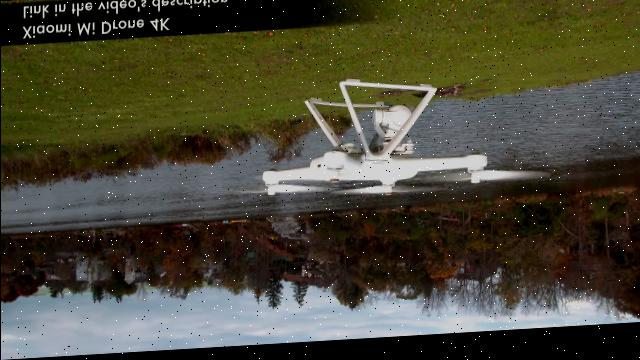drone: (240, 59, 546, 215)
